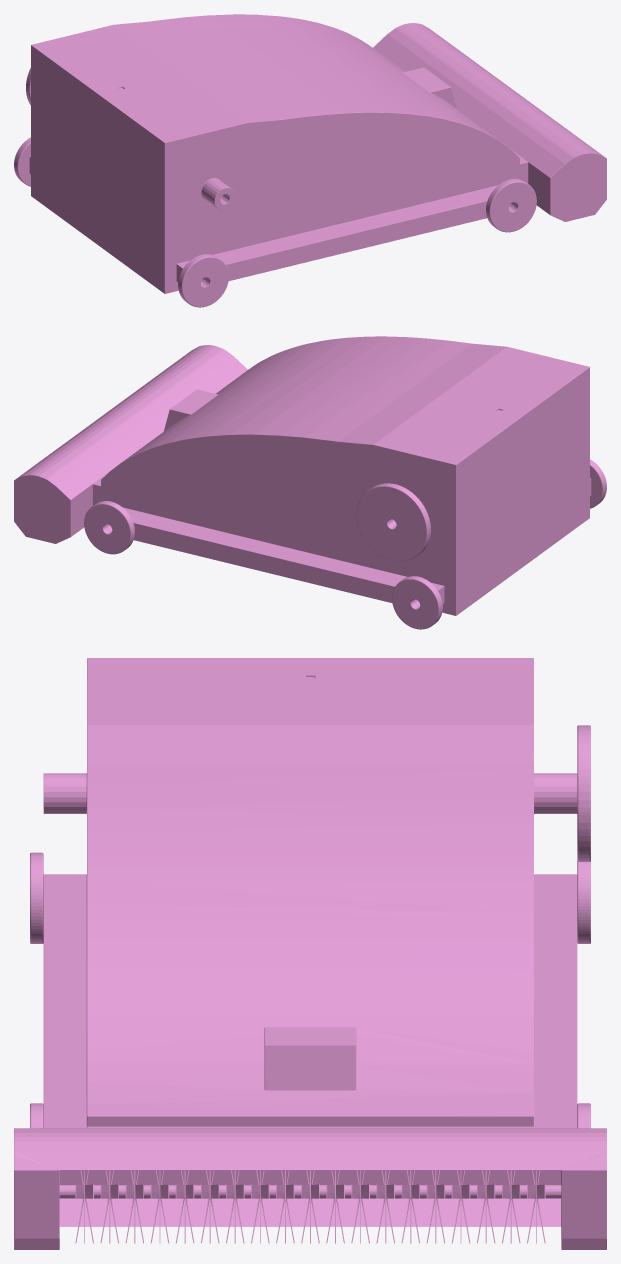
File: Car2.dae
3 renders of one model, top to bottom at view 1: azimuth 30°, elevation 25°; view 2: azimuth 150°, elevation 25°; view 3: azimuth 270°, elevation 25°, orthographic. The views are drawn at different scales.
Parts seen in each view (by area): view 1: chassis_link; view 2: chassis_link; view 3: chassis_link.
Part boxes in pixels (x1,y1,x2,y2): chassis_link: [14, 14, 606, 307]; chassis_link: [14, 336, 606, 629]; chassis_link: [14, 658, 606, 1249].
Bounding box in the file's own units: 1.78 × 1.3 × 0.635.
